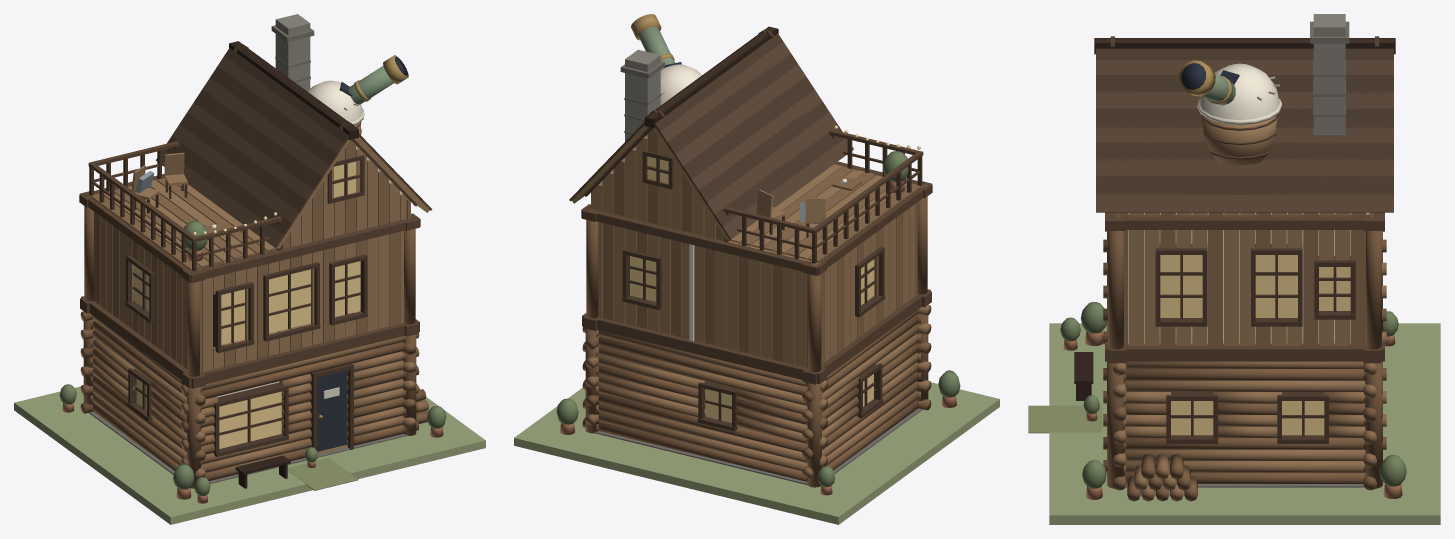
The model's file is house.glb.
The picture shows the model from 3 angles, left to right: view 1: azimuth 30°, elevation 25°; view 2: azimuth 150°, elevation 25°; view 3: azimuth 270°, elevation 25°; orthographic projection. The views are drawn at different scales.
Parts seen in each view (by area): view 1: f1_wall_S, f2_wall_S, f3_roof_W, ground, f1_wall_W, f2_wall_W, f3_terrace, f3_gable_S, f3_floor, outside, f3_dome, f3_chimney (+4 smaller); view 2: f1_wall_N, f2_wall_N, f3_roof_W, ground, f1_wall_W, f2_wall_W, f3_gable_N, f3_terrace, f3_floor, f3_chimney, f3_dome, outside (+5 smaller); view 3: f3_roof_E, f1_wall_E, f2_wall_E, ground, f3_dome, outside, f3_chimney, f3_roof_W, f1_wall_S, f1_wall_N, f2_wall_S, f2_wall_N (+1 smaller).
Part boxes in pixels (<box>): f1_wall_S: <box>181,319,419,488</box>; f2_wall_S: <box>182,213,420,376</box>; f3_roof_W: <box>155,41,358,249</box>; ground: <box>14,386,485,524</box>; f1_wall_W: <box>81,296,205,478</box>; f2_wall_W: <box>80,191,205,369</box>; f3_terrace: <box>88,141,282,271</box>; f3_gable_S: <box>281,121,417,248</box>; f3_floor: <box>91,178,276,269</box>; outside: <box>59,384,446,503</box>; f3_dome: <box>307,55,408,134</box>; f3_chimney: <box>271,14,314,91</box>; f1_wall_N: <box>582,313,827,487</box>; f2_wall_N: <box>581,204,826,372</box>; f3_roof_W: <box>644,26,853,240</box>; ground: <box>514,382,999,524</box>; f1_wall_W: <box>802,289,930,482</box>; f2_wall_W: <box>803,181,931,364</box>; f3_gable_N: <box>584,109,724,240</box>; f3_terrace: <box>723,125,923,263</box>; f3_floor: <box>729,164,920,261</box>; f3_chimney: <box>620,49,664,148</box>; f3_dome: <box>631,14,701,105</box>; outside: <box>556,370,960,495</box>; f3_roof_E: <box>1096,41,1393,216</box>; f1_wall_E: <box>1103,341,1386,483</box>; f2_wall_E: <box>1105,212,1384,345</box>; ground: <box>1028,323,1440,524</box>; f3_dome: <box>1179,60,1281,165</box>; outside: <box>1060,302,1406,501</box>; f3_chimney: <box>1310,14,1349,135</box>; f3_roof_W: <box>1094,38,1395,54</box>; f1_wall_S: <box>1107,231,1126,490</box>; f1_wall_N: <box>1363,231,1382,490</box>; f2_wall_S: <box>1107,219,1128,349</box>; f2_wall_N: <box>1364,216,1382,349</box>.
Bounding box in the file's own units: 8.6 × 9.5 × 7.8.
